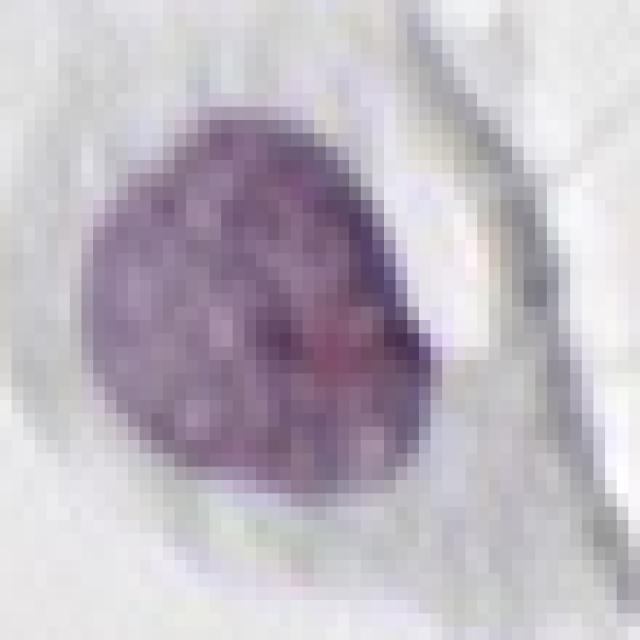cytoplasm: (0, 0, 628, 627)
nucleus: (17, 69, 469, 567)
